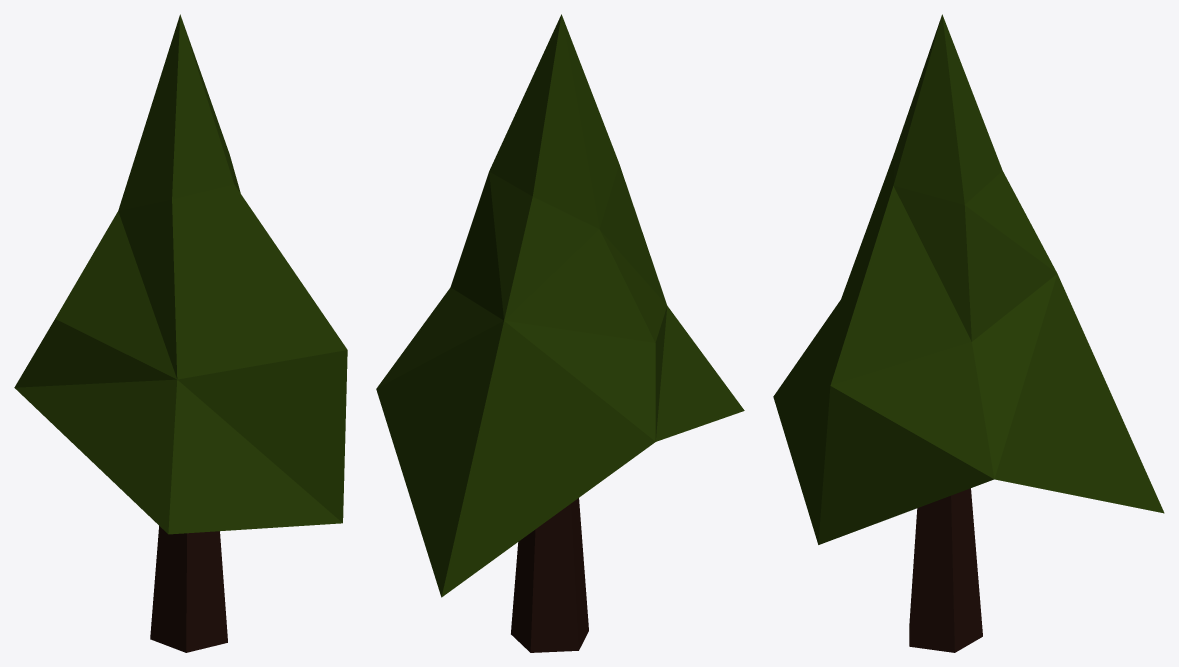
File: HempB.fbx.glb
3 views of the same model, side by side, from view 1: azimuth 30°, elevation 25°; view 2: azimuth 150°, elevation 25°; view 3: azimuth 270°, elevation 25° (orthographic).
Parts seen in each view (by area): view 1: HempB; view 2: HempB; view 3: HempB.
Part boxes in pixels (x1=…): HempB: x1=14, y1=14, x2=347, y2=652; HempB: x1=376, y1=14, x2=744, y2=652; HempB: x1=773, y1=14, x2=1164, y2=652.
Size of the model in its own units: 24.66 by 51.02 by 29.3.
